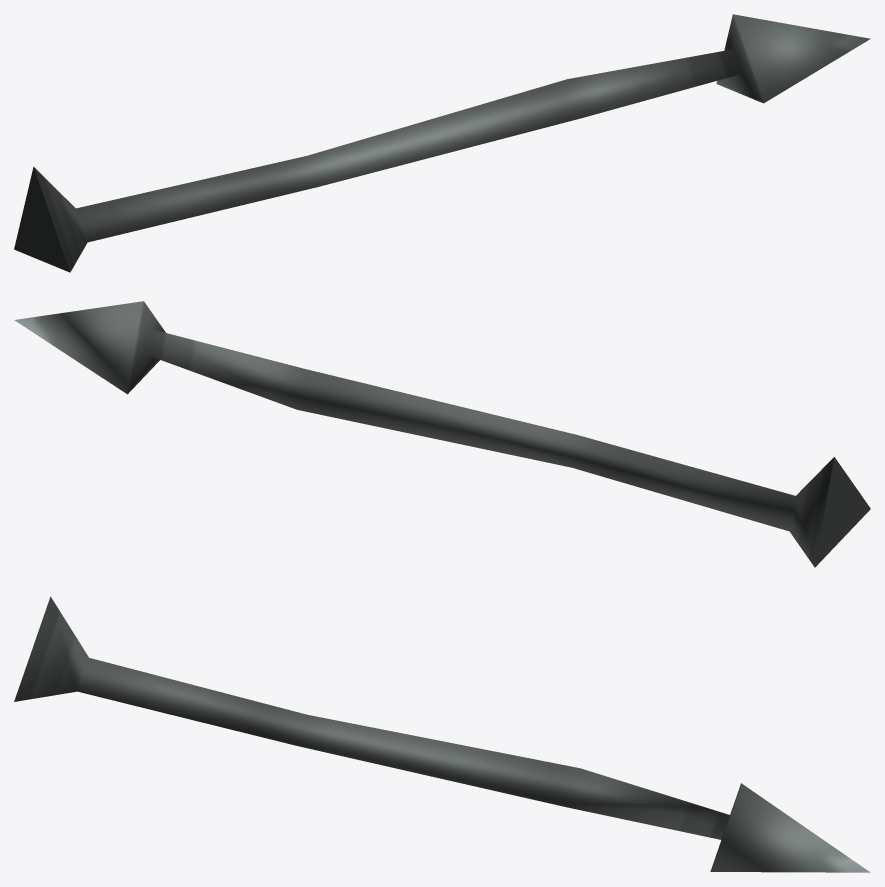
The model's file is Dg_01_steel_002.FBX.
3 views of the same model, one above another, from view 1: azimuth 30°, elevation 25°; view 2: azimuth 150°, elevation 25°; view 3: azimuth 330°, elevation 25° (orthographic).
Parts seen in each view (by area): view 1: Dg_01_steel_002; view 2: Dg_01_steel_002; view 3: Dg_01_steel_002.
Boxes of the visible parts, x1,y1,x2,y2 form: Dg_01_steel_002: (14,14,870,272); Dg_01_steel_002: (14,301,870,567); Dg_01_steel_002: (14,596,870,872).
Bounding box in the file's own units: 1.98 × 0.2221 × 0.2326.
